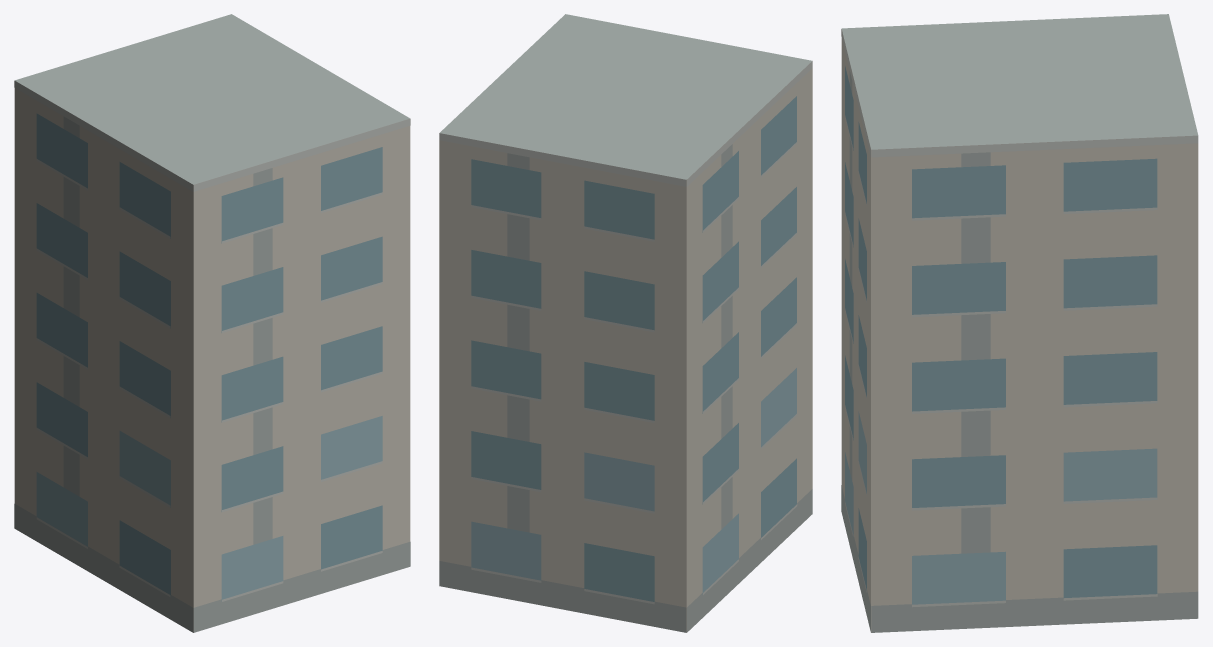
The model's file is residential-92eaa4f9-99f0-4e32-a55e-1226f8c6e3b7.glb.
3 renders of one model, left to right at view 1: azimuth 30°, elevation 25°; view 2: azimuth 150°, elevation 25°; view 3: azimuth 270°, elevation 25°, orthographic. The views are drawn at different scales.
Visible parts, largest first — view 1: residential-92eaa4f9-99f0-4e32-a55e-1226f8c6e3b7.tmp; view 2: residential-92eaa4f9-99f0-4e32-a55e-1226f8c6e3b7.tmp; view 3: residential-92eaa4f9-99f0-4e32-a55e-1226f8c6e3b7.tmp.
Part boxes in pixels (x1,y1,x2,y2): residential-92eaa4f9-99f0-4e32-a55e-1226f8c6e3b7.tmp: (14,14,410,632); residential-92eaa4f9-99f0-4e32-a55e-1226f8c6e3b7.tmp: (439,14,812,632); residential-92eaa4f9-99f0-4e32-a55e-1226f8c6e3b7.tmp: (841,14,1198,632).
Size of the model in its own units: 9.2 by 15.25 by 10.22.
